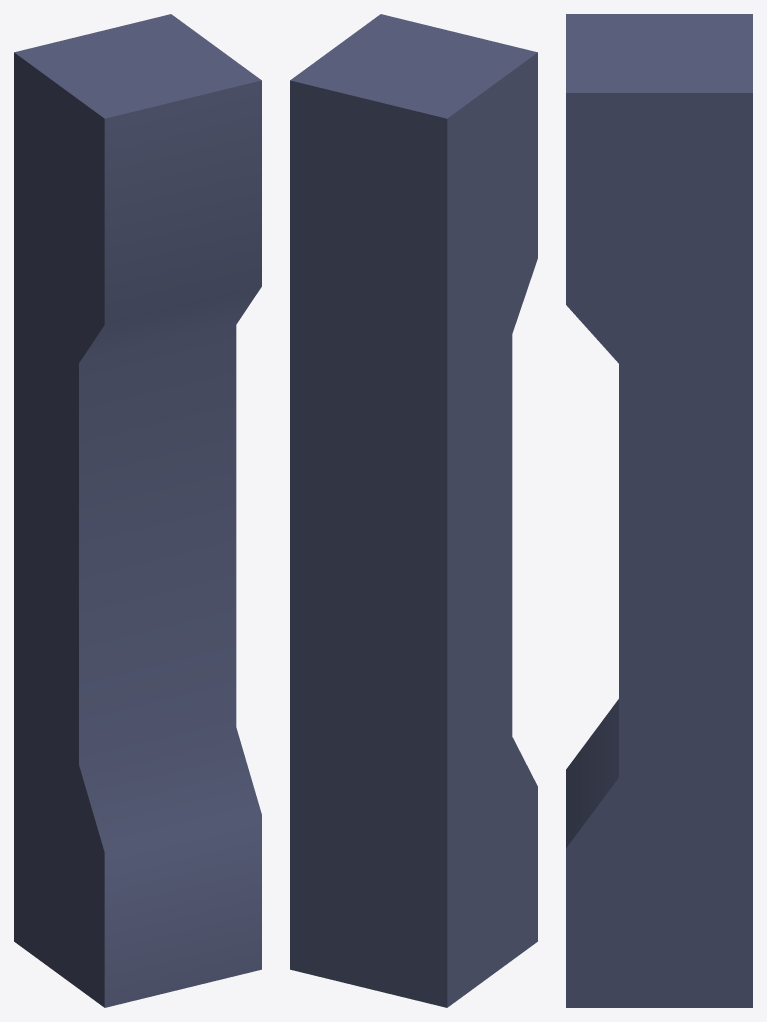
The model's file is Column.fbx.
3 renders of one model, left to right at view 1: azimuth 30°, elevation 25°; view 2: azimuth 150°, elevation 25°; view 3: azimuth 270°, elevation 25°, orthographic. The views are drawn at different scales.
Parts seen in each view (by area): view 1: pCube1; view 2: pCube1; view 3: pCube1.
Boxes of the visible parts, x1=… form: pCube1: x1=14, y1=14, x2=261, y2=1007; pCube1: x1=290, y1=14, x2=537, y2=1007; pCube1: x1=566, y1=14, x2=752, y2=1007.
Bounding box in the file's own units: 1 × 5.41 × 1.
